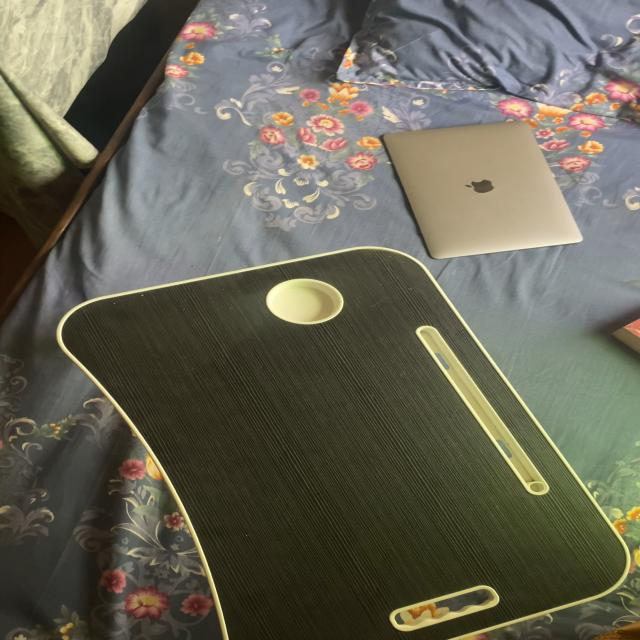laptop: (375, 122, 613, 272)
table: (57, 248, 640, 640)
